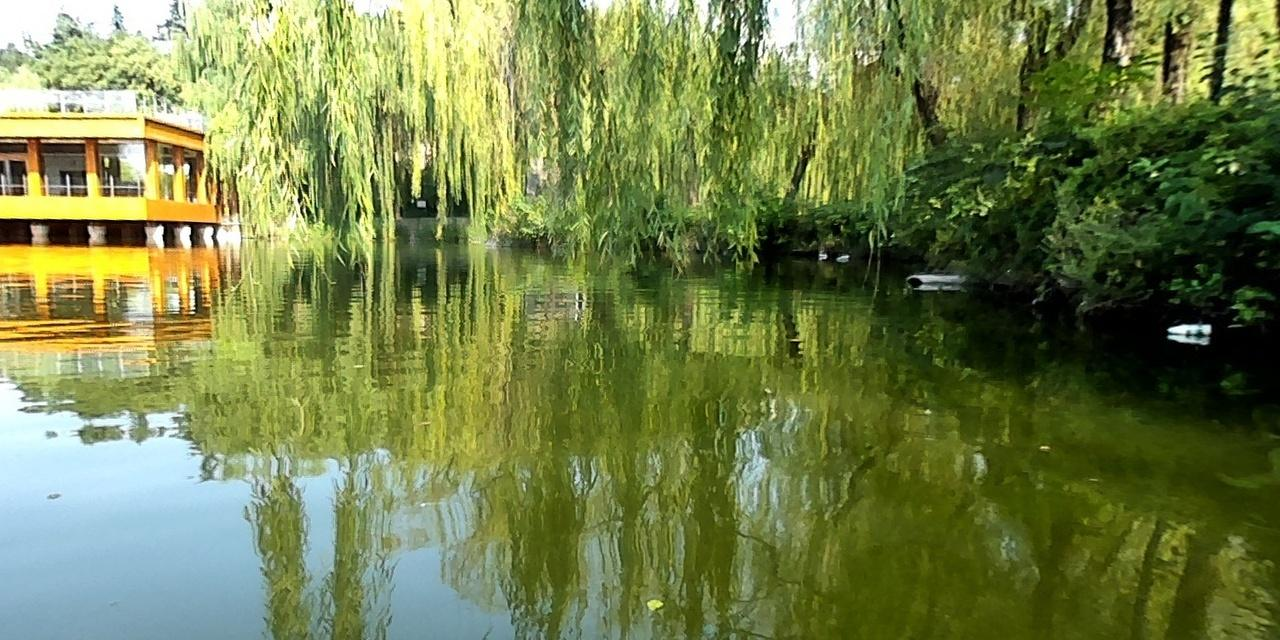bottle: (1166, 321, 1209, 337), (836, 254, 847, 262)
